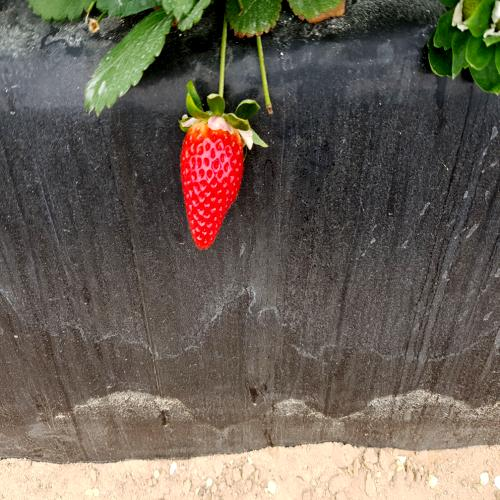ripe: (178, 113, 247, 250)
